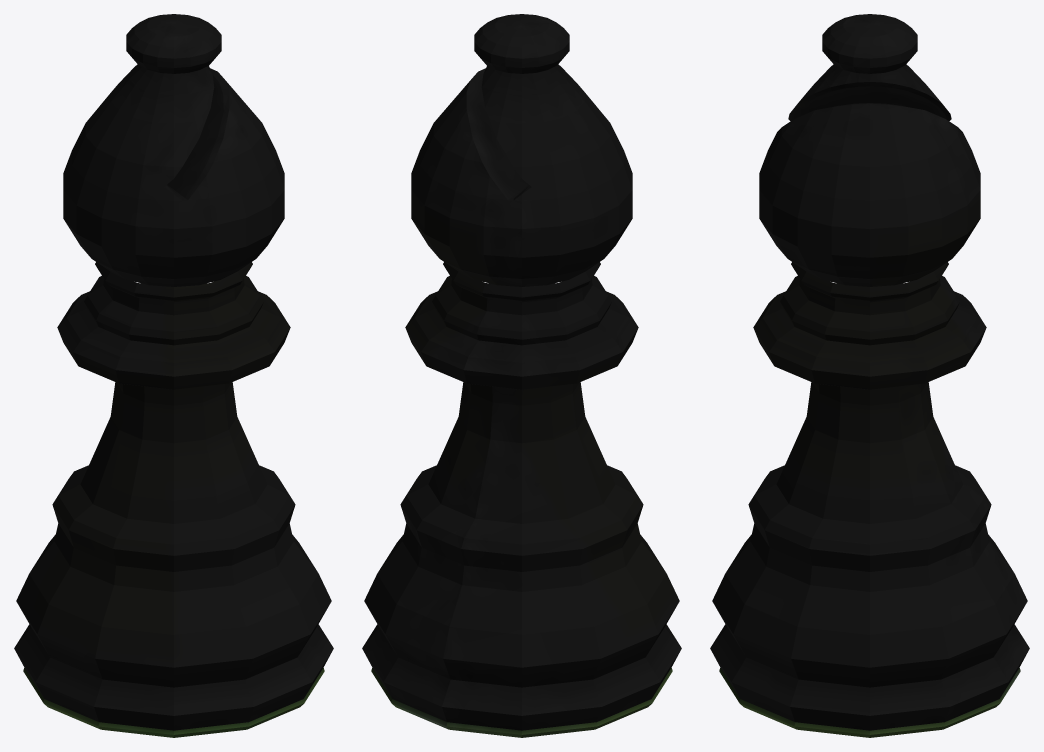
The model's file is bishop.glb.
The picture shows the model from 3 angles, left to right: view 1: azimuth 30°, elevation 25°; view 2: azimuth 150°, elevation 25°; view 3: azimuth 270°, elevation 25°; orthographic projection.
Visible parts, largest first — view 1: bishop.obj; view 2: bishop.obj; view 3: bishop.obj.
Part boxes in pixels (left/top/right/bottom): bishop.obj: left=14, top=14, right=333, bottom=737; bishop.obj: left=362, top=14, right=681, bottom=737; bishop.obj: left=710, top=14, right=1029, bottom=737.
Size of the model in its own units: 0.4441 by 1 by 0.4441.
Materials: 1 (1 with a texture image).
